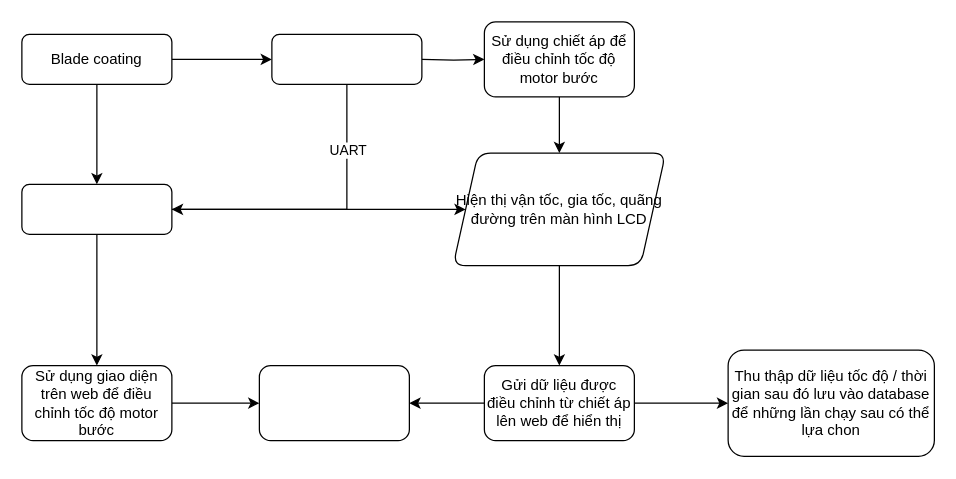
Some shapes in this 956 by 479 pixel diagram are drawn without their labels. Each missing label, with the centre of its shape:
"ArduinoUno" belongs at (x=346, y=58).
"ESP 8266" belongs at (x=96, y=208).
"Hiển thị các thông số được điều chỉnh trên web" belongs at (x=333, y=402).
